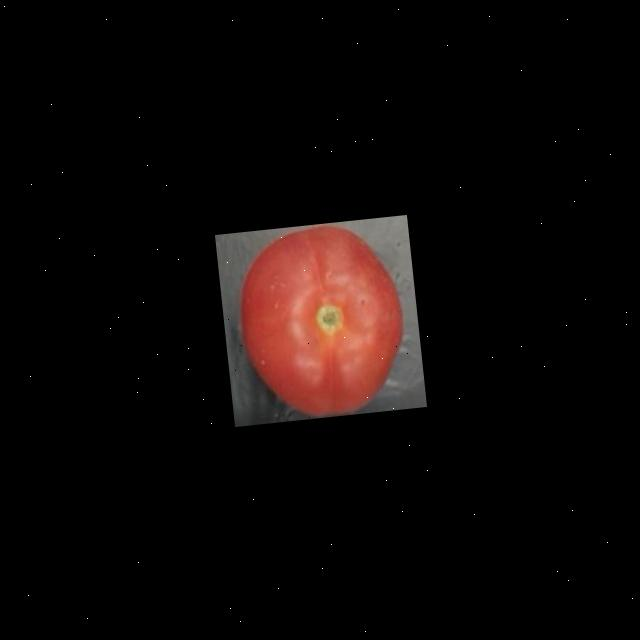tomato: (229, 215, 414, 422)
